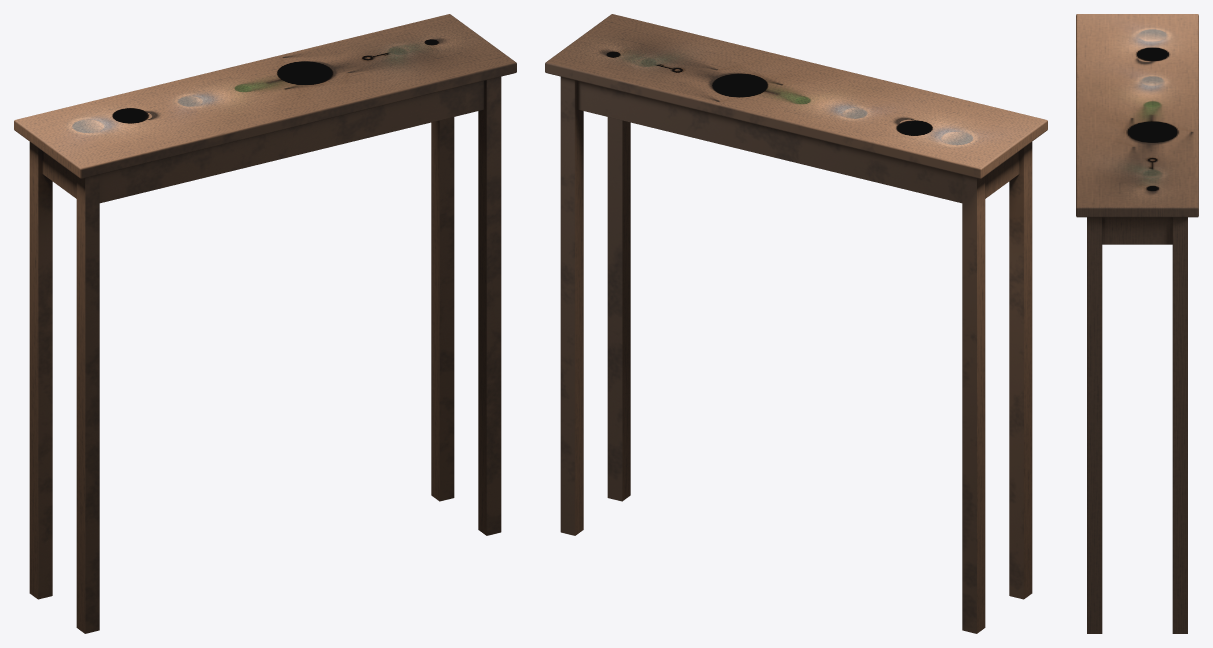
The model's file is 601_hook.glb.
3 views of the same model, side by side, from view 1: azimuth 30°, elevation 25°; view 2: azimuth 150°, elevation 25°; view 3: azimuth 270°, elevation 25° (orthographic). The views are drawn at different scales.
Visible parts, largest first — view 1: Table; view 2: Table; view 3: Table.
Boxes of the visible parts, bbox=[...] form: Table: bbox=[14, 14, 516, 633]; Table: bbox=[545, 14, 1047, 633]; Table: bbox=[1076, 14, 1198, 633].
Size of what is drawn, in the model's own units: 3 by 3.1 by 0.8.
Materials: 1 (1 with a texture image).
